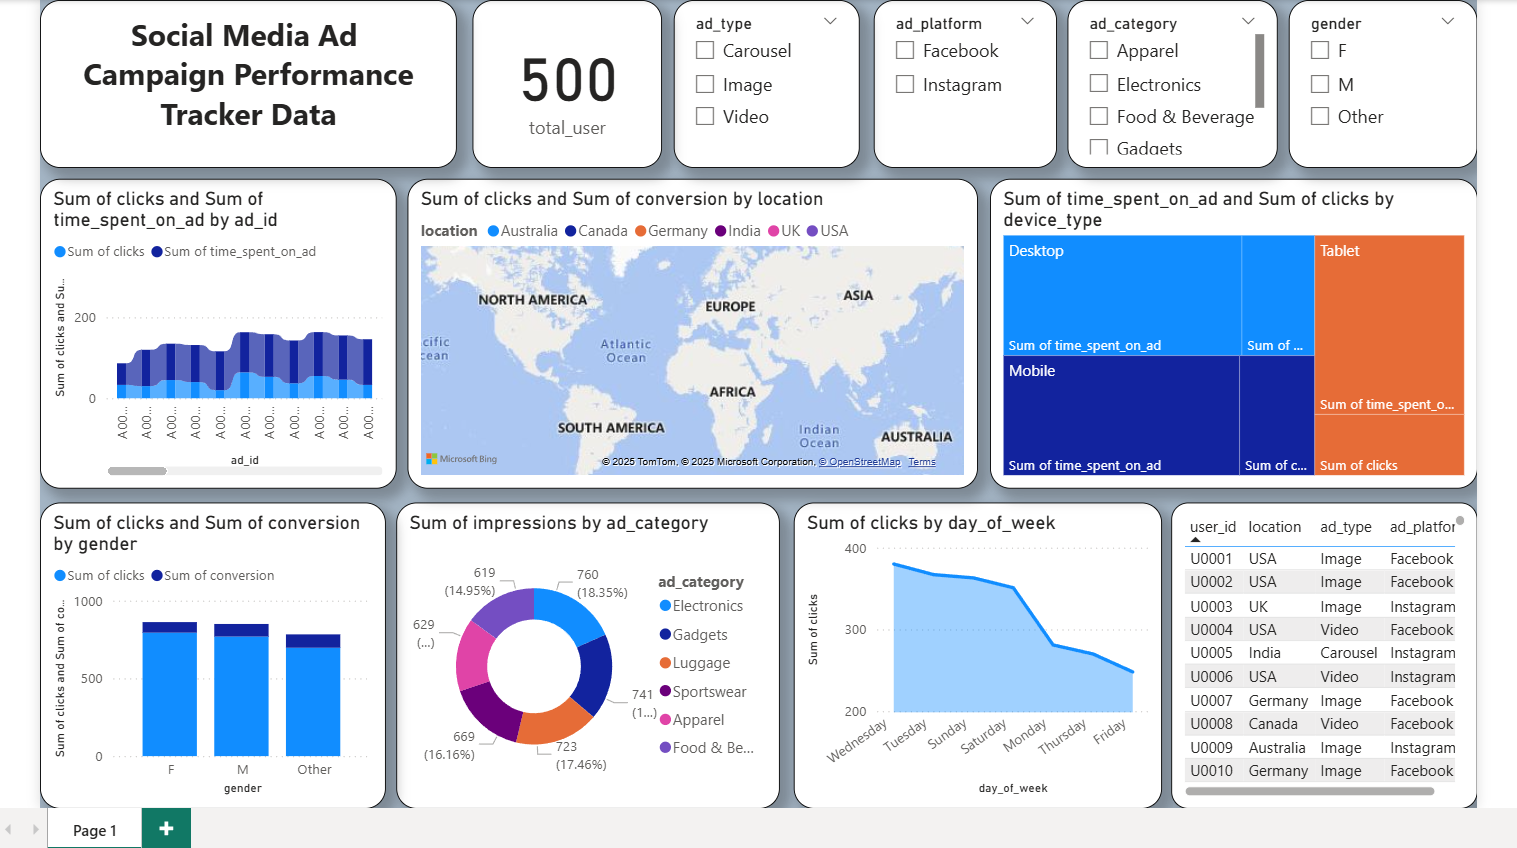

What the dashboard file says about the page in this screenshot:
{"tool":"powerbi","page":{"name":"Page 1","canvas":[1280,720],"ordinal":0},"visuals":[{"type":"slicer","fields":{"Values":["social_media_ad_optimization.ad_platform"]},"box":[742,0,162.9,149.6],"z":1},{"type":"ribbonChart","fields":{"Category":["social_media_ad_optimization.ad_id"],"Y":["Sum(social_media_ad_optimization.clicks)","Sum(social_media_ad_optimization.time_spent_on_ad)"]},"box":[0,159.3,317.3,276.3],"z":2},{"type":"donutChart","fields":{"Y":["Sum(social_media_ad_optimization.impressions)"],"Category":["social_media_ad_optimization.ad_category"]},"box":[317.3,447.6,341.4,272.7],"z":3},{"type":"areaChart","fields":{"Y":["Sum(social_media_ad_optimization.clicks)"],"Category":["social_media_ad_optimization.day_of_week"]},"box":[670.8,447.6,328.2,272.7],"z":4},{"type":"map","fields":{"Series":["social_media_ad_optimization.location"],"Size":["Sum(social_media_ad_optimization.clicks)"]},"box":[326.9,159.3,507.9,276.3],"z":5},{"type":"treemap","fields":{"Values":["Sum(social_media_ad_optimization.time_spent_on_ad)","Sum(social_media_ad_optimization.clicks)"],"Group":["social_media_ad_optimization.device_type"]},"box":[845.7,159.3,434.3,276.3],"z":6},{"type":"slicer","fields":{"Values":["social_media_ad_optimization.ad_category"]},"box":[914.5,0,187,149.6],"z":7},{"type":"tableEx","fields":{"Values":["social_media_ad_optimization.user_id","social_media_ad_optimization.location","social_media_ad_optimization.ad_type","social_media_ad_optimization.ad_platform"]},"box":[1007.4,447.6,272.7,272.7],"z":8},{"type":"columnChart","fields":{"Y":["Sum(social_media_ad_optimization.clicks)","Sum(social_media_ad_optimization.conversion)"],"Category":["social_media_ad_optimization.gender"]},"box":[0,447.6,307.6,272.7],"z":9},{"type":"slicer","fields":{"Values":["social_media_ad_optimization.gender"]},"box":[1112.3,0,167.7,149.6],"z":10},{"type":"slicer","fields":{"Values":["social_media_ad_optimization.ad_type"]},"box":[564.6,0,165.3,149.6],"z":11},{"type":"card","fields":{"Values":["social_media_ad_optimization.total_user"]},"box":[384.9,0,168.9,149.6],"z":12},{"type":"textbox","box":[0,0,371.6,149.6],"z":13}]}

Visuals, with their boxes in screenshot pixels (x1, y1, x2, y2):
slicer - social_media_ad_optimization.ad_platform: left=868, top=0, right=1051, bottom=164
ribbonChart - social_media_ad_optimization.ad_id x Sum(social_media_ad_optimization.clicks): left=36, top=175, right=392, bottom=485
donutChart - Sum(social_media_ad_optimization.impressions) x social_media_ad_optimization.ad_category: left=392, top=498, right=775, bottom=804
areaChart - Sum(social_media_ad_optimization.clicks) x social_media_ad_optimization.day_of_week: left=788, top=498, right=1157, bottom=804
map - social_media_ad_optimization.location x Sum(social_media_ad_optimization.clicks): left=402, top=175, right=972, bottom=485
treemap - Sum(social_media_ad_optimization.time_spent_on_ad) x Sum(social_media_ad_optimization.clicks): left=985, top=175, right=1472, bottom=485
slicer - social_media_ad_optimization.ad_category: left=1062, top=0, right=1272, bottom=164
tableEx - social_media_ad_optimization.user_id x social_media_ad_optimization.location: left=1166, top=498, right=1472, bottom=804
columnChart - Sum(social_media_ad_optimization.clicks) x Sum(social_media_ad_optimization.conversion): left=36, top=498, right=381, bottom=804
slicer - social_media_ad_optimization.gender: left=1284, top=0, right=1472, bottom=164
slicer - social_media_ad_optimization.ad_type: left=669, top=0, right=855, bottom=164
card - social_media_ad_optimization.total_user: left=467, top=0, right=657, bottom=164
textbox: left=36, top=0, right=453, bottom=164
